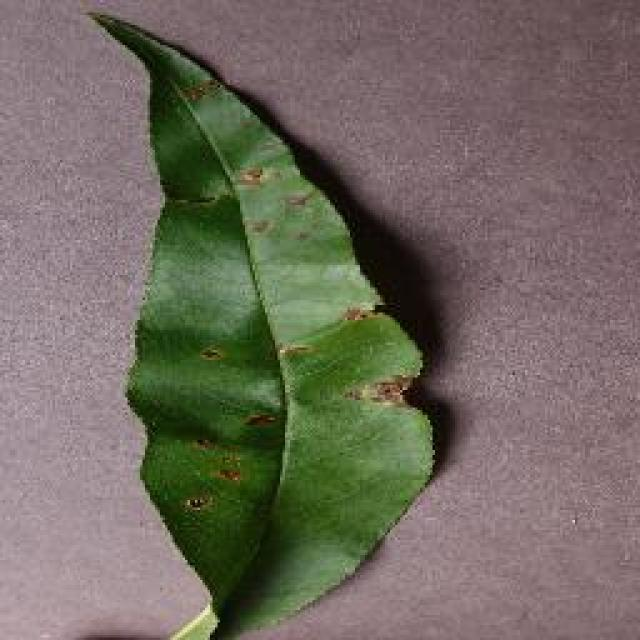Bacterial_spot: (332, 368, 433, 430), (332, 293, 404, 343), (228, 150, 284, 192), (175, 480, 223, 524), (233, 210, 290, 245), (281, 187, 328, 225)
